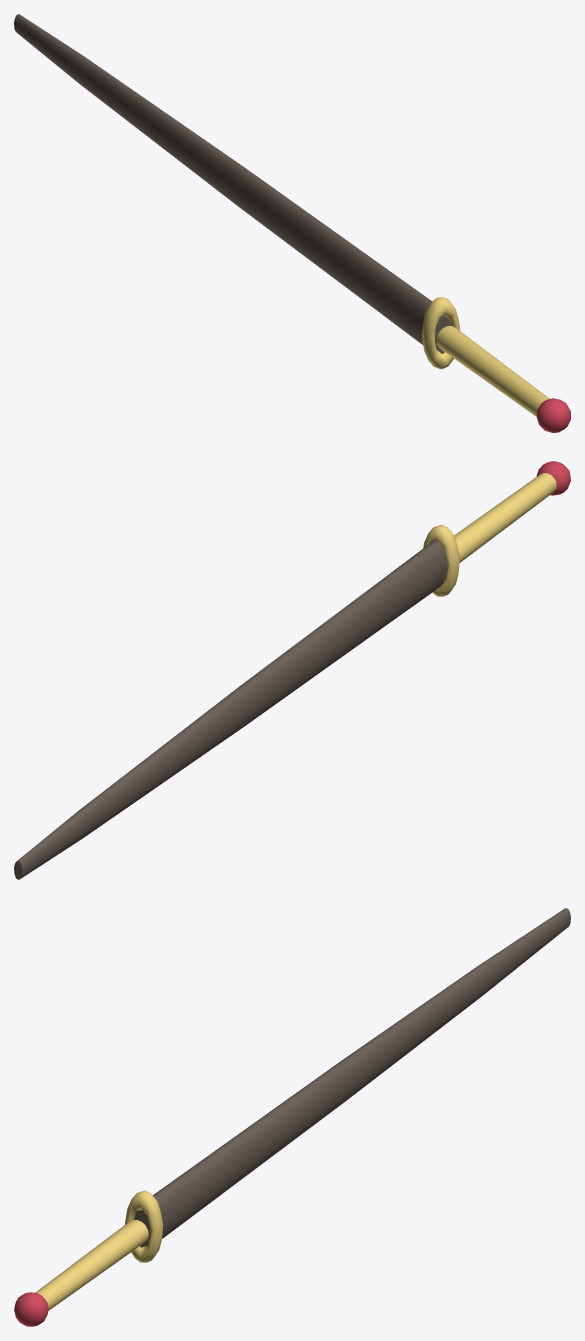
Rendered from ganondorf_sword_LOD1.dae.
The picture shows the model from 3 angles, top to bottom: view 1: azimuth 30°, elevation 25°; view 2: azimuth 150°, elevation 25°; view 3: azimuth 330°, elevation 25°; orthographic projection.
Visible parts, largest first — view 1: GanondorfSword_LOD1; view 2: GanondorfSword_LOD1; view 3: GanondorfSword_LOD1.
Part boxes in pixels (x1,y1,x2,y2): GanondorfSword_LOD1: (14,14,570,432); GanondorfSword_LOD1: (14,461,570,879); GanondorfSword_LOD1: (14,908,570,1326).
Bounding box in the file's own units: 0.0448 × 1.25 × 0.0898.
